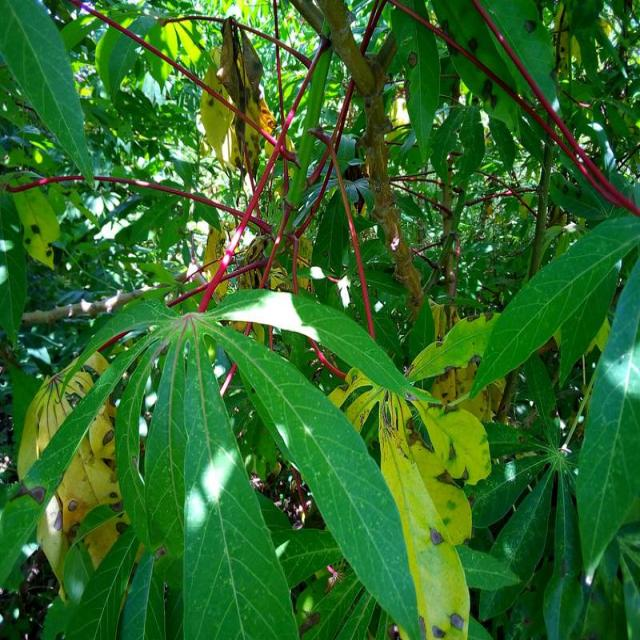cassava leaf: (200, 316, 422, 638), (466, 212, 638, 402), (16, 346, 129, 604)
